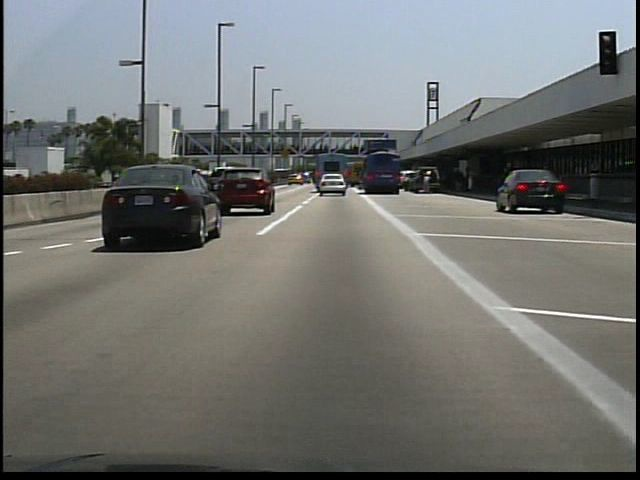person: (450, 165, 467, 198)
